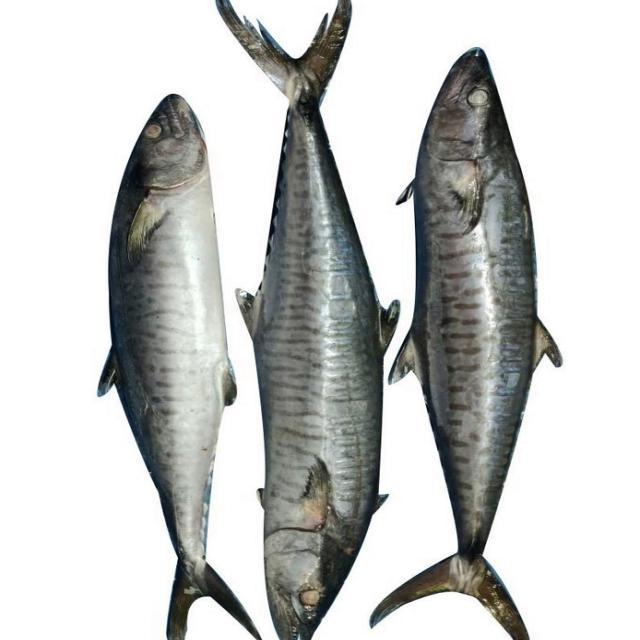seer: (216, 0, 400, 640), (370, 51, 563, 640), (97, 97, 260, 640)
